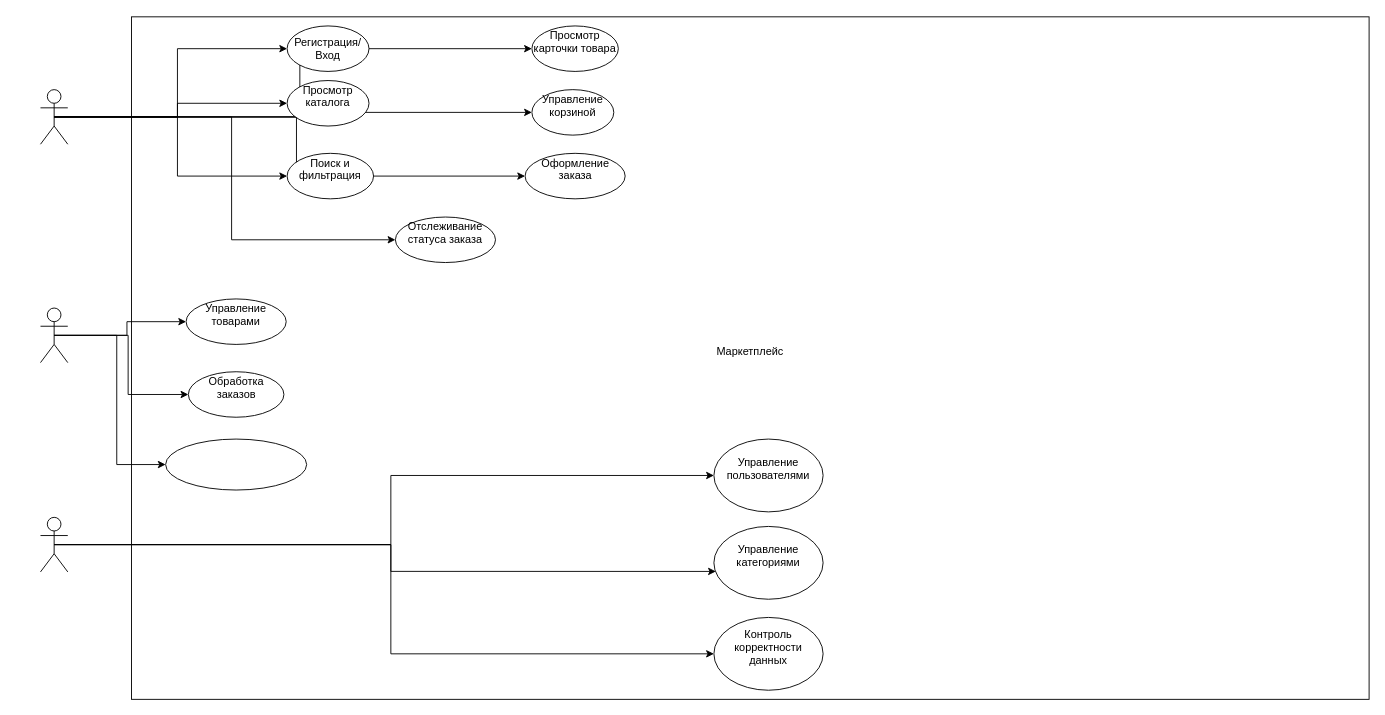
Image size: 1385x715. Some labels were removed from this diagram. The shapes that lost their labels are listed below. From the top down, each one's box as (x1, y1, x2, y2) in pixels, then its label:
(40, 89, 68, 144): покупатель
(40, 307, 68, 363): продавец
(165, 438, 307, 490): Изменение статусов заказа
(40, 516, 68, 572): администратор
